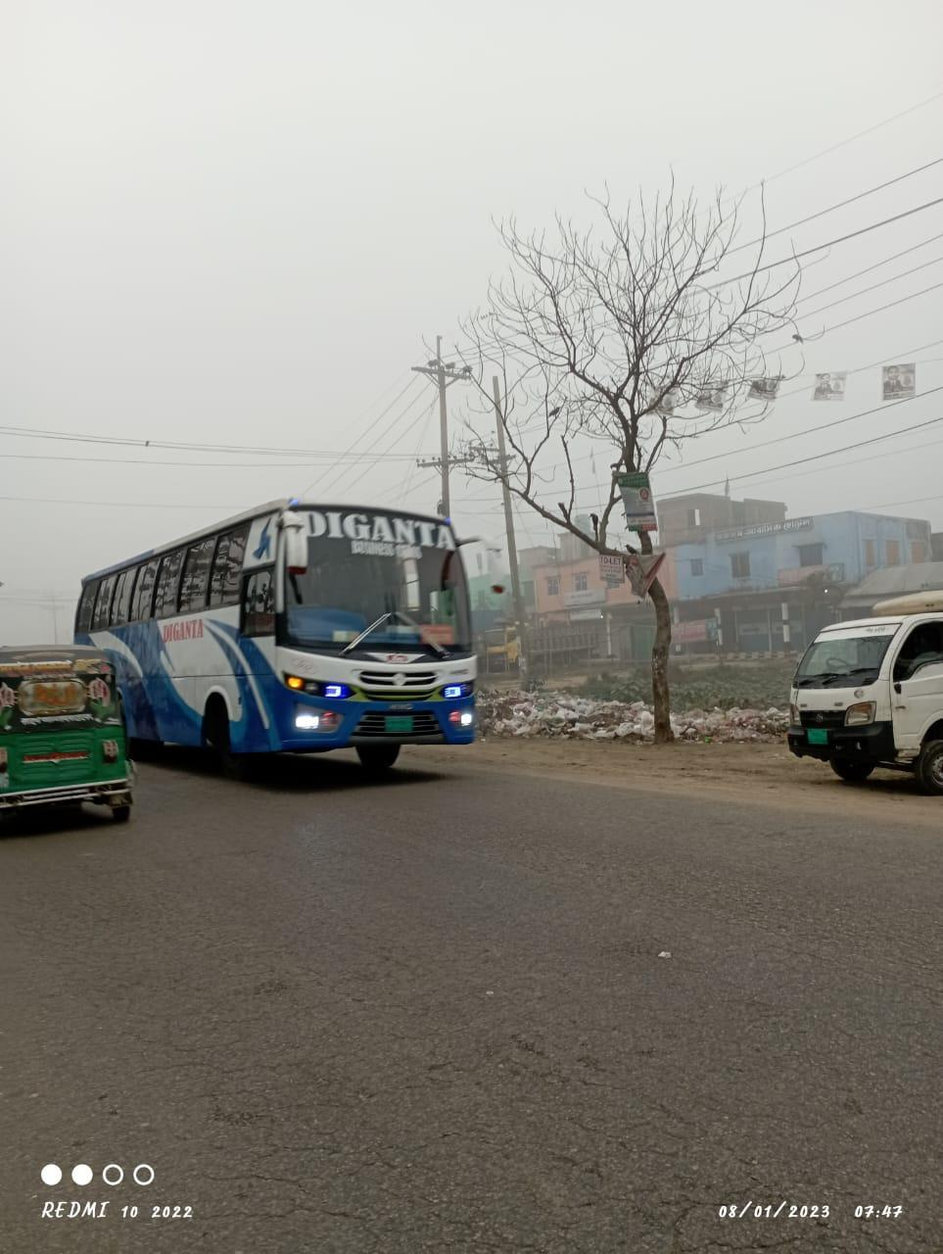Bus: (37, 491, 490, 761)
Truck: (780, 585, 943, 796)
